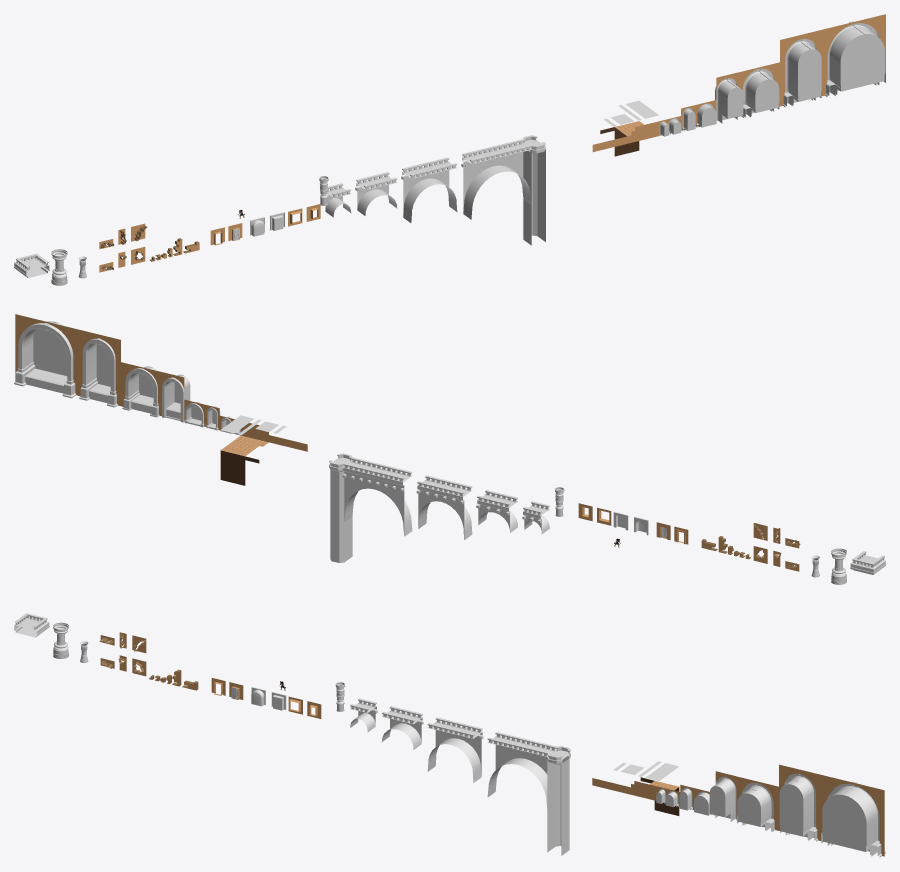
The model's file is Enviroment_Colections_Exports.fbx.
3 renders of one model, top to bottom at view 1: azimuth 30°, elevation 25°; view 2: azimuth 150°, elevation 25°; view 3: azimuth 330°, elevation 25°, orthographic.
Visible parts, largest first — view 1: Bridge_Arch_20m, Arc_Nika_18x18, Bridge_Pillar, Arc_Wall_18x18, Bridge_Arch_15m, Arc_Nika_12x18, Arc_Wall_12x18, Bridge_Arch_10m, Arc_Nika_12x12, Arc_Wall_12x12, Arc_Nika_12x6; view 2: Arc_Wall_18x18, Bridge_Arch_20m, Arc_Wall_12x18, Bridge_Pillar, Bridge_Arch_15m, Arc_Nika_18x18, Arc_Wall_12x12, Bridge_Arch_10m, Arc_Nika_12x18, Arc_Wall_12x6, Bridge_Arch_5m, Arc_Nika_12x12; view 3: Arc_Nika_18x18, Bridge_Pillar, Bridge_Arch_20m, Arc_Wall_18x18, Bridge_Arch_15m, Arc_Nika_12x18, Arc_Wall_12x18, Arc_Wall_12x12, Bridge_Arch_10m, Arc_Nika_12x12, Arc_Nika_12x6, Bridge_Arch_5m (+1 smaller).
Part boxes in pixels (x1,y1,x2,y2): Bridge_Arch_20m: [461, 139, 531, 219]; Arc_Nika_18x18: [835, 30, 884, 91]; Bridge_Pillar: [522, 135, 545, 245]; Arc_Wall_18x18: [822, 14, 885, 96]; Bridge_Arch_15m: [401, 157, 457, 222]; Arc_Nika_12x18: [792, 45, 821, 101]; Arc_Wall_12x18: [780, 30, 822, 106]; Bridge_Arch_10m: [355, 172, 397, 215]; Arc_Nika_12x12: [750, 75, 779, 112]; Arc_Wall_12x12: [737, 62, 779, 117]; Arc_Nika_12x6: [722, 83, 743, 118]; Arc_Wall_18x18: [14, 314, 78, 398]; Bridge_Arch_20m: [342, 457, 412, 536]; Arc_Wall_12x18: [78, 329, 120, 407]; Bridge_Pillar: [329, 453, 352, 563]; Bridge_Arch_15m: [416, 475, 472, 539]; Arc_Nika_18x18: [28, 321, 67, 380]; Arc_Wall_12x12: [121, 362, 163, 417]; Bridge_Arch_10m: [476, 490, 517, 532]; Arc_Nika_12x18: [91, 343, 110, 391]; Arc_Wall_12x6: [162, 372, 184, 422]; Bridge_Arch_5m: [522, 501, 549, 534]; Arc_Nika_12x12: [133, 366, 157, 402]; Arc_Nika_18x18: [822, 790, 871, 851]; Bridge_Pillar: [547, 746, 570, 855]; Bridge_Arch_20m: [487, 732, 556, 808]; Arc_Wall_18x18: [821, 775, 885, 857]; Bridge_Arch_15m: [427, 717, 483, 782]; Arc_Nika_12x18: [779, 780, 808, 836]; Arc_Wall_12x18: [779, 764, 821, 841]; Arc_Wall_12x12: [736, 776, 778, 831]; Bridge_Arch_10m: [381, 706, 423, 749]; Arc_Nika_12x12: [737, 789, 766, 826]; Arc_Nika_12x6: [709, 782, 730, 817]; Bridge_Arch_5m: [350, 698, 377, 732].
Size of the model in its own units: 24511 by 4133 by 1423.
